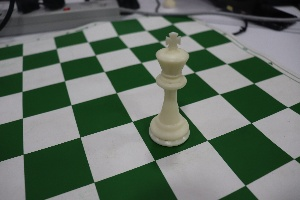white_king: (145, 17, 196, 153)
